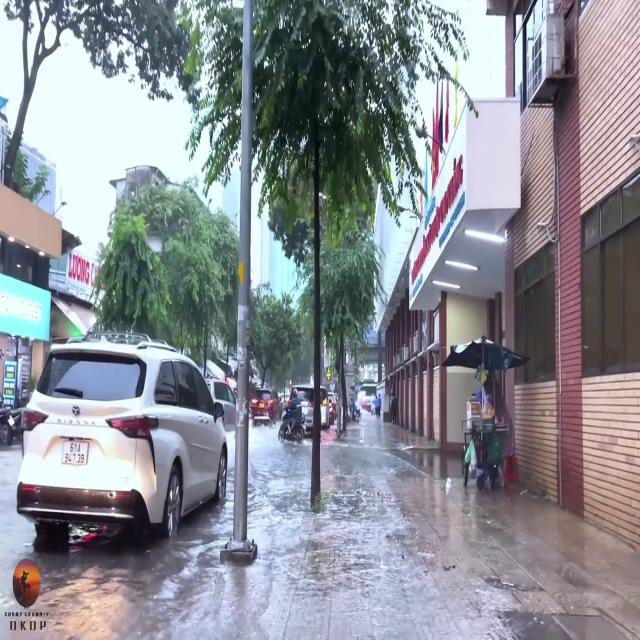bien_trang: (62, 438, 89, 468)
